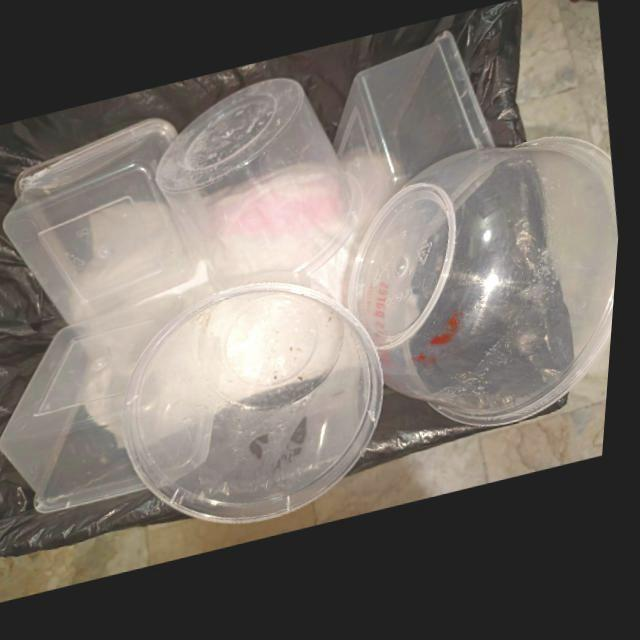plastic_container: (355, 145, 623, 441), (127, 282, 392, 528), (6, 292, 213, 514), (160, 81, 368, 289), (7, 118, 208, 325), (336, 38, 499, 231)
